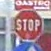stop: (13, 7, 43, 41)
